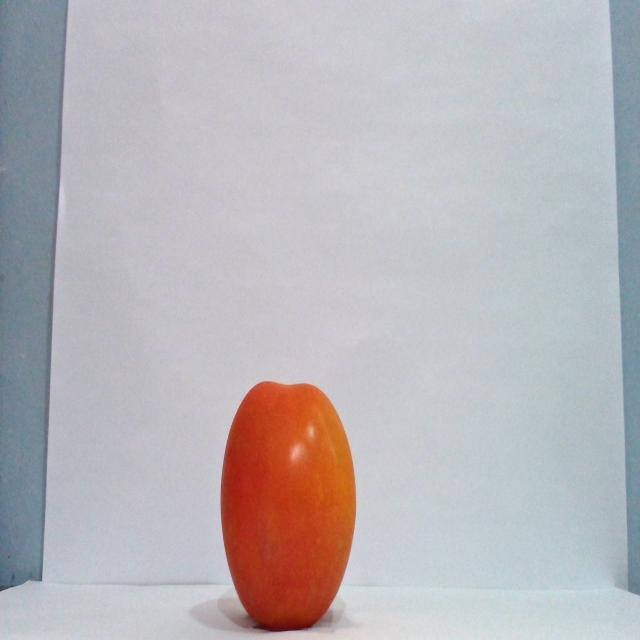Red: (218, 378, 357, 631)
